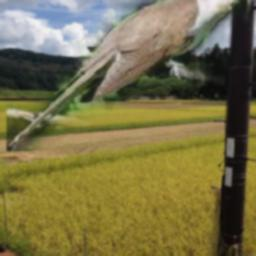Cuckoo: (8, 0, 255, 152)
